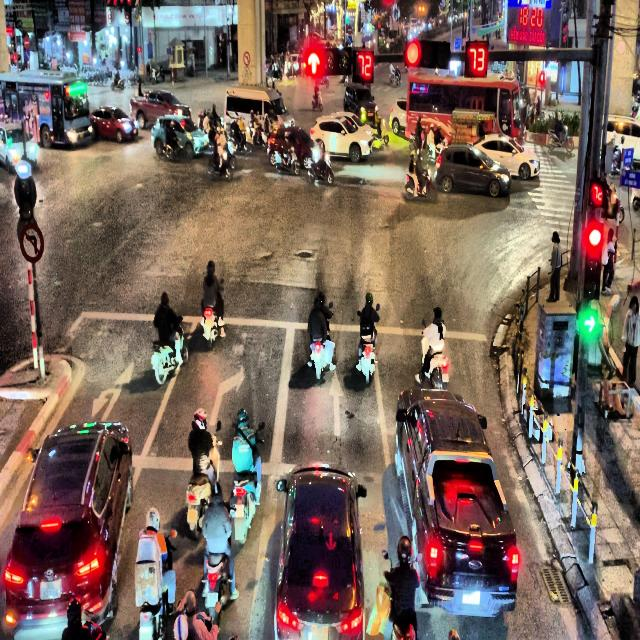BUS: (405, 69, 523, 147), (0, 69, 93, 148)
CAR: (3, 420, 133, 639), (412, 450, 520, 618), (274, 463, 367, 639), (395, 387, 491, 527), (435, 144, 511, 198), (310, 112, 374, 162), (472, 133, 540, 180), (267, 125, 326, 173), (151, 114, 209, 160), (130, 90, 191, 128), (0, 123, 38, 174), (90, 105, 139, 143), (343, 82, 378, 120), (389, 98, 407, 136)
MOTORBIKE: (134, 528, 177, 638), (228, 422, 264, 545), (198, 500, 236, 614), (186, 421, 222, 535), (151, 324, 189, 385), (420, 319, 450, 389), (308, 301, 334, 379), (200, 280, 225, 348), (356, 310, 377, 384), (405, 165, 437, 202), (208, 146, 234, 181), (307, 153, 334, 185), (274, 146, 300, 175), (546, 127, 574, 152), (369, 117, 389, 148), (426, 137, 448, 163), (161, 136, 184, 160), (250, 123, 266, 146), (311, 90, 323, 112), (111, 74, 125, 90), (389, 70, 401, 87)
